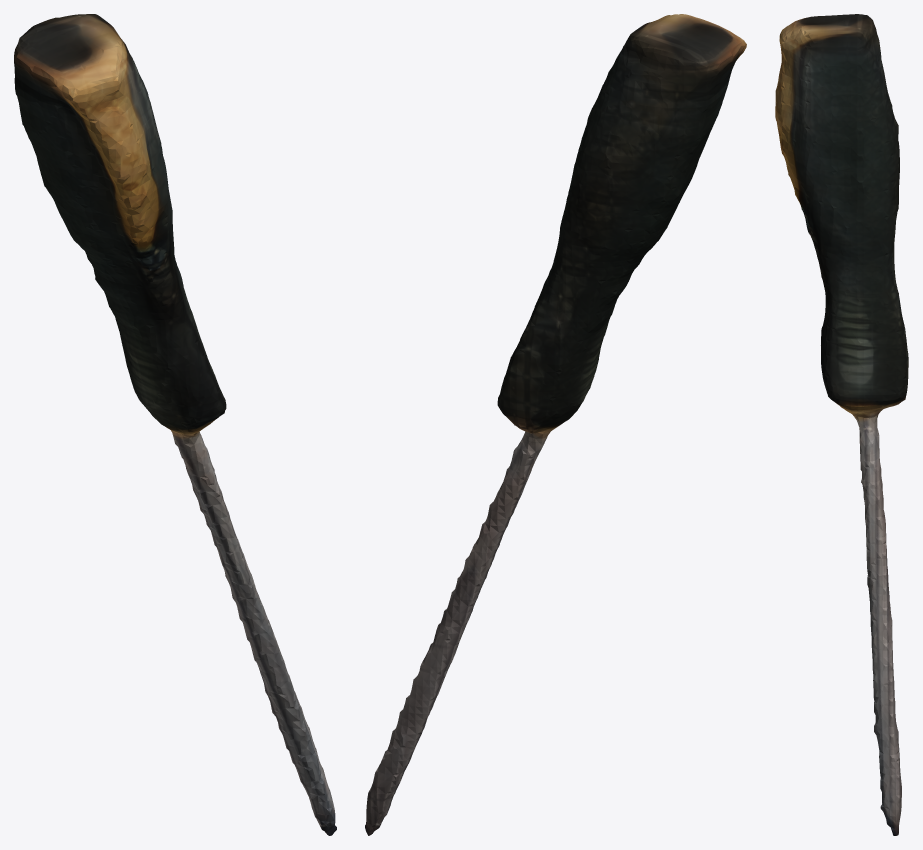
Rendered from 0_rgba.obj.
The picture shows the model from 3 angles, left to right: view 1: azimuth 30°, elevation 25°; view 2: azimuth 150°, elevation 25°; view 3: azimuth 270°, elevation 25°; orthographic projection. The views are drawn at different scales.
Bounding box in the file's own units: 0.7883 × 1.94 × 0.3338.
Materials: 1 (1 with a texture image).
